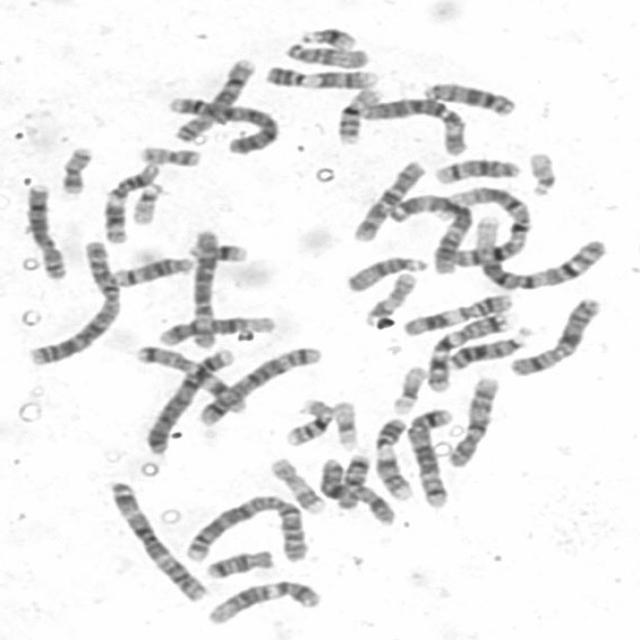A1: (468, 210, 608, 292), (428, 180, 535, 272)
A2: (20, 233, 124, 367), (176, 489, 312, 566)
A3: (101, 474, 209, 603), (382, 188, 477, 272)
B4: (137, 340, 239, 456), (163, 90, 281, 156)
B5: (191, 340, 324, 427), (401, 401, 456, 509)
C10: (346, 154, 428, 243), (441, 370, 503, 469)
C11: (396, 287, 516, 338), (96, 155, 163, 245)
C12: (199, 573, 323, 627), (152, 308, 277, 348)
C6: (355, 90, 470, 156), (183, 223, 221, 350)
C7: (130, 340, 249, 416), (420, 304, 514, 394)
C8: (168, 52, 258, 144), (17, 177, 69, 282)
C9: (367, 412, 416, 502), (258, 59, 382, 91)
D13: (432, 320, 534, 376), (416, 75, 518, 117)
D14: (104, 251, 196, 288), (428, 152, 522, 185)
D15: (339, 250, 428, 294), (278, 37, 372, 70)
E16: (330, 80, 385, 146), (278, 392, 336, 448)
E17: (264, 452, 328, 516), (359, 266, 418, 325)
E18: (312, 452, 362, 510), (200, 542, 276, 580)
F19: (385, 358, 429, 416), (326, 394, 362, 452)
F20: (53, 140, 95, 196), (132, 138, 202, 167)
G21: (295, 20, 359, 50), (182, 236, 250, 264)
G22: (520, 144, 560, 198), (124, 176, 166, 227)
X: (502, 292, 605, 378)
